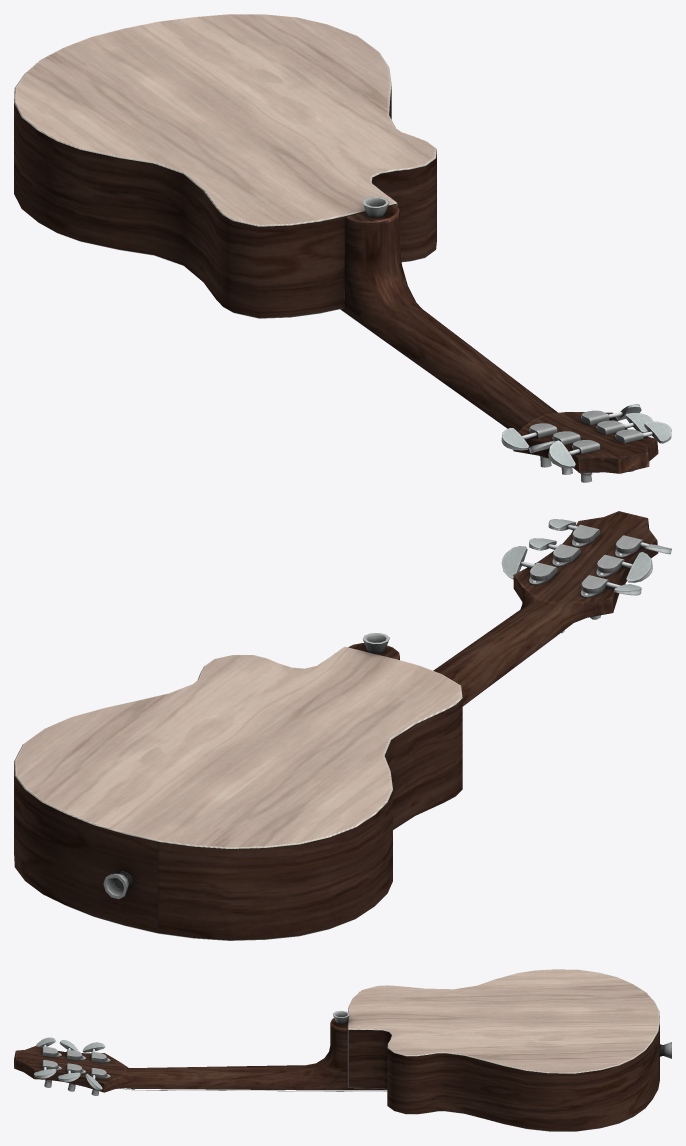
Rendered from low-poly-guitar-757b3b.glb.
The picture shows the model from 3 angles, top to bottom: view 1: azimuth 30°, elevation 25°; view 2: azimuth 150°, elevation 25°; view 3: azimuth 270°, elevation 25°; orthographic projection. The views are drawn at different scales.
Visible parts, largest first — view 1: PropMesh; view 2: PropMesh; view 3: PropMesh.
Part boxes in pixels (x1,y1,x2,y2): PropMesh: (14,14,671,482); PropMesh: (14,511,671,940); PropMesh: (14,969,671,1131).
Size of the model in its own units: 6.71 by 2.2 by 17.95.
Materials: 1 (1 with a texture image).
